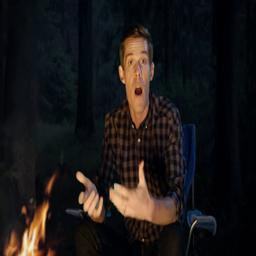fire: (5, 173, 56, 256)
